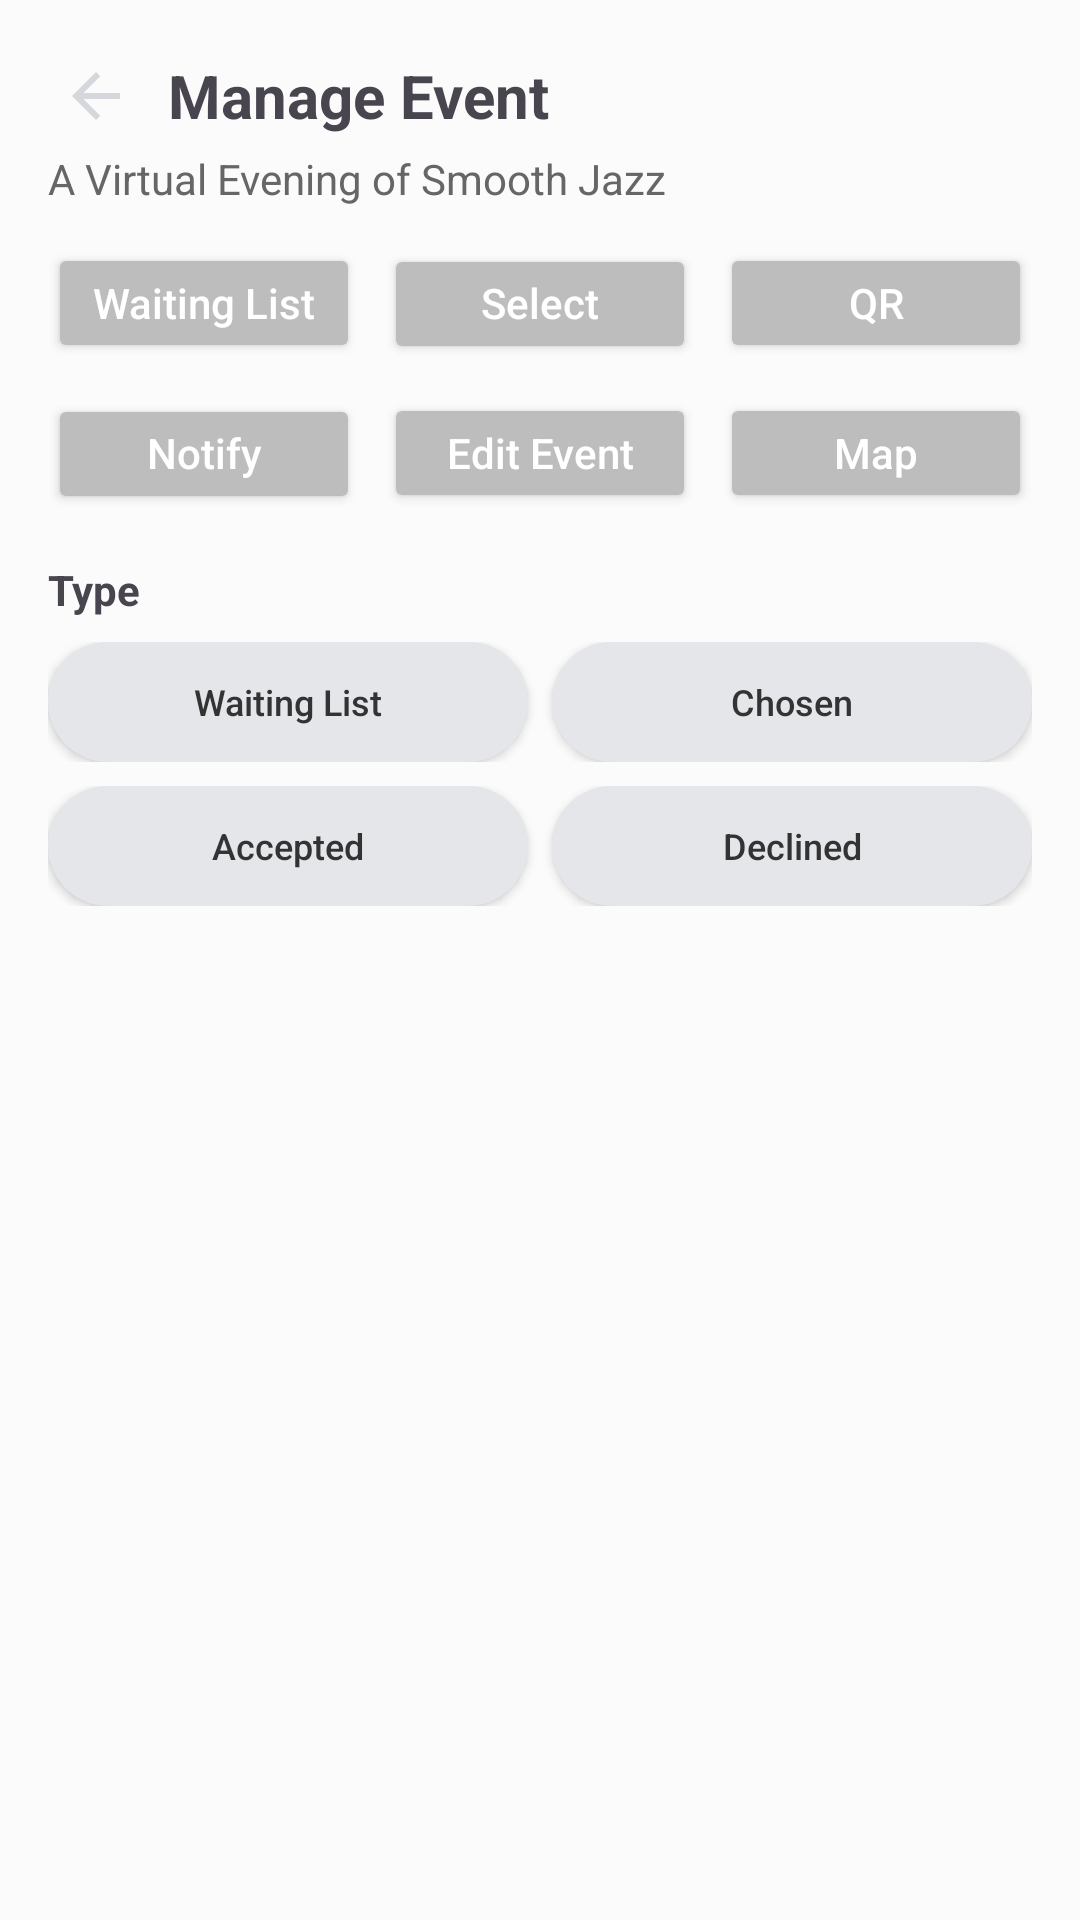

Icons on this 1080*1920 Android screen, each with its box as box(x1, y1, x2, y2):
Back: box(73, 73, 120, 119)
